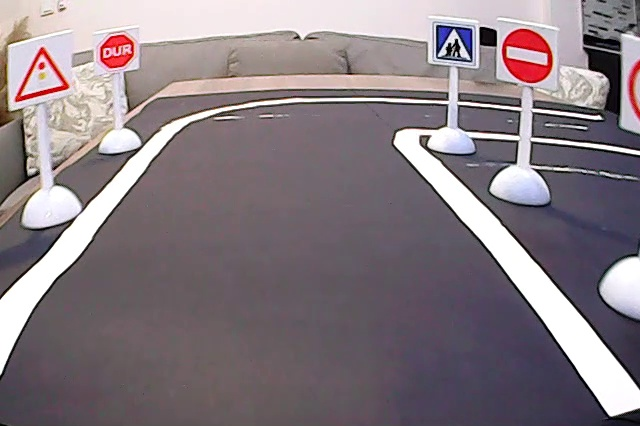do not enter: (496, 24, 557, 89)
red light: (11, 40, 76, 104)
school crossing: (430, 19, 477, 68)
stop sign: (95, 30, 141, 72)
